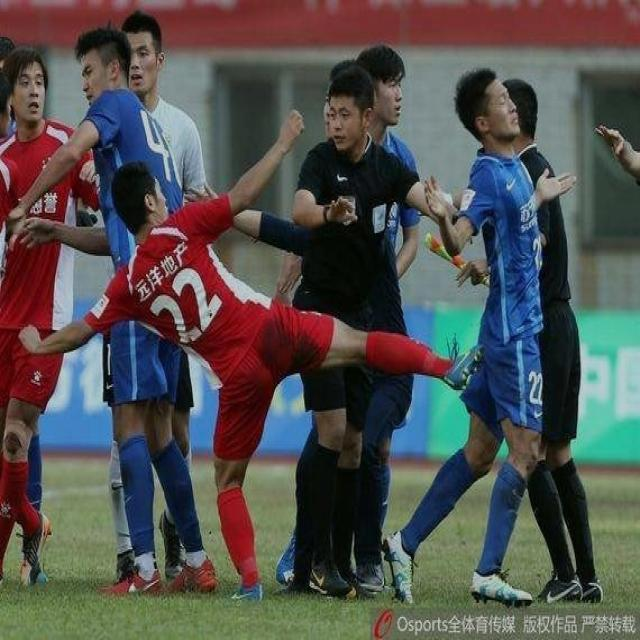fight: (24, 31, 576, 601)
non-fight: (15, 21, 218, 592), (294, 64, 446, 611)
